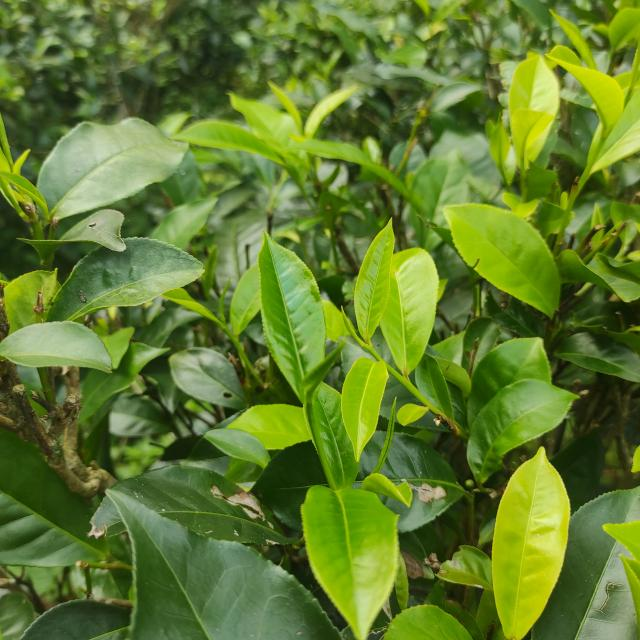unopened_leaf: (366, 389, 402, 475), (334, 299, 370, 352), (0, 159, 29, 220), (214, 272, 238, 327)
